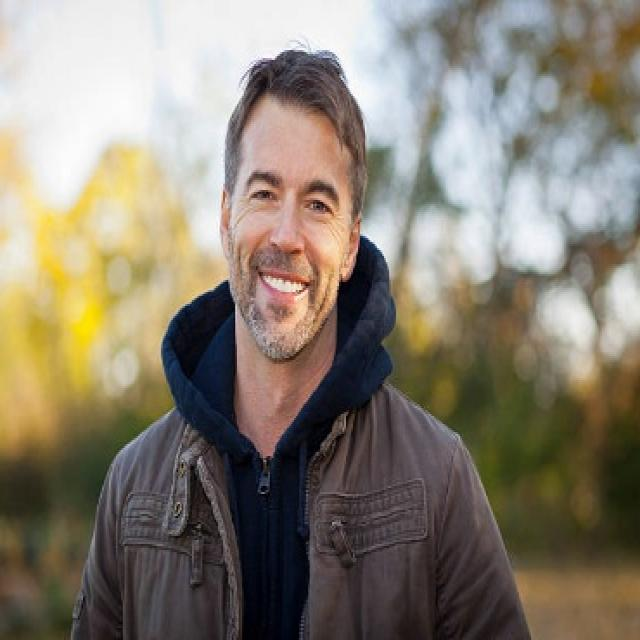adult: (65, 42, 525, 640)
